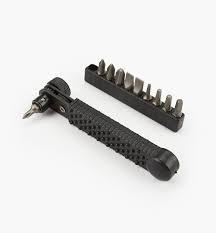screwdriver: (21, 102, 39, 119), (124, 71, 133, 90), (134, 76, 142, 96), (116, 67, 124, 86), (106, 63, 114, 80), (97, 58, 105, 74), (145, 82, 150, 99)
